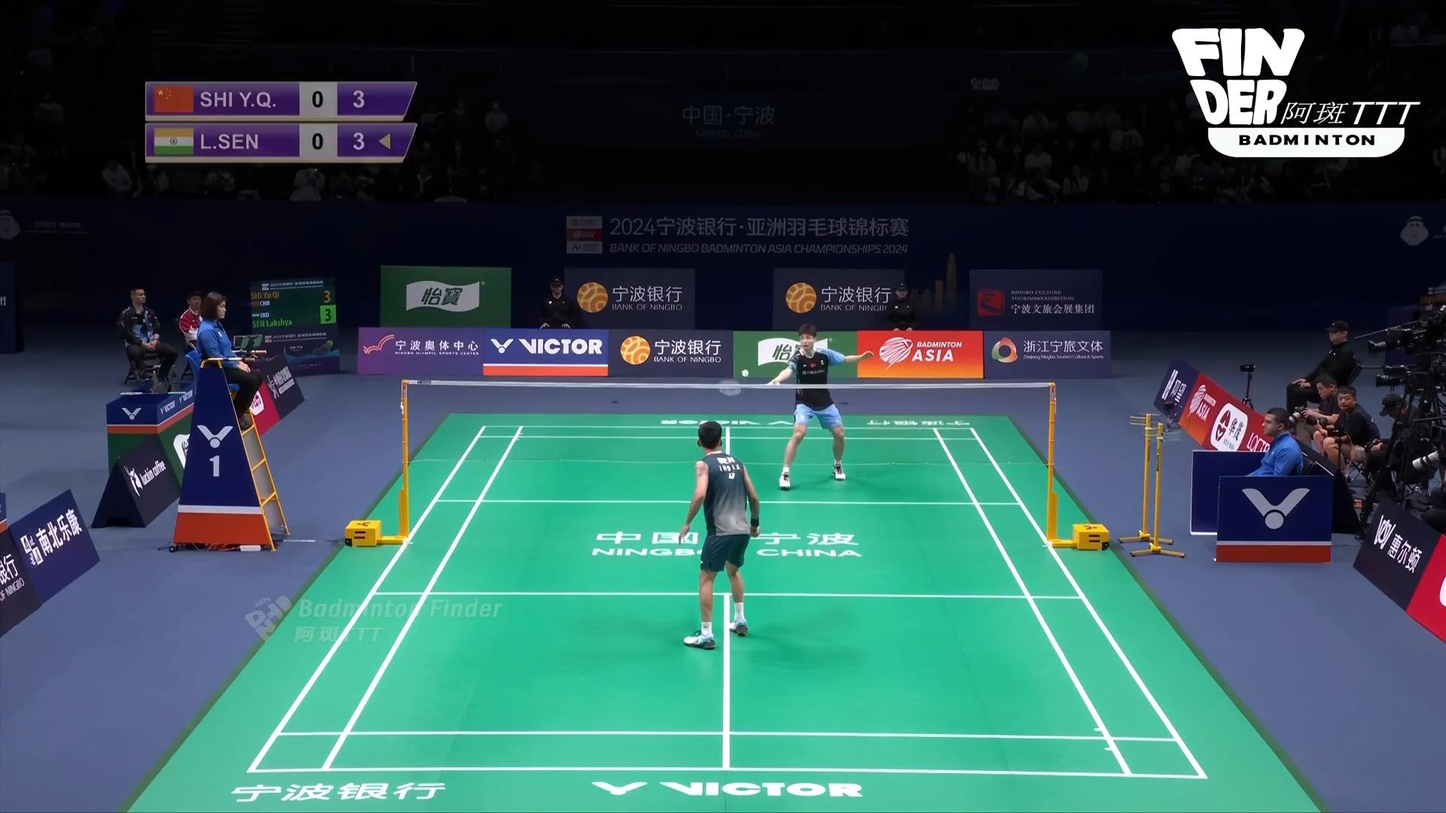shuttlecock: (741, 369, 749, 377)
